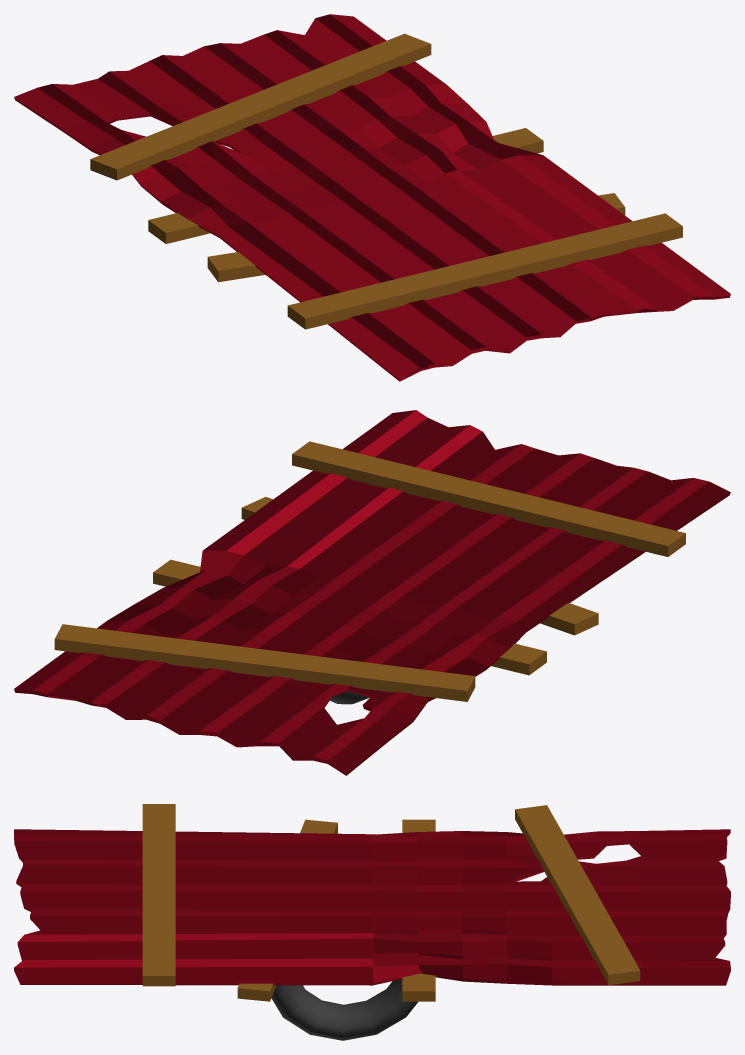
Rendered from aloong_shield.fbx.
3 renders of one model, top to bottom at view 1: azimuth 30°, elevation 25°; view 2: azimuth 150°, elevation 25°; view 3: azimuth 270°, elevation 25°, orthographic. The views are drawn at different scales.
Parts seen in each view (by area): view 1: aloong_shield; view 2: aloong_shield; view 3: aloong_shield.
Boxes of the visible parts, x1,y1,x2,y2 form: aloong_shield: (14,14,730,381); aloong_shield: (14,410,730,775); aloong_shield: (14,804,730,1040).
Bounding box in the file's own units: 1.83 × 0.6493 × 3.22.
